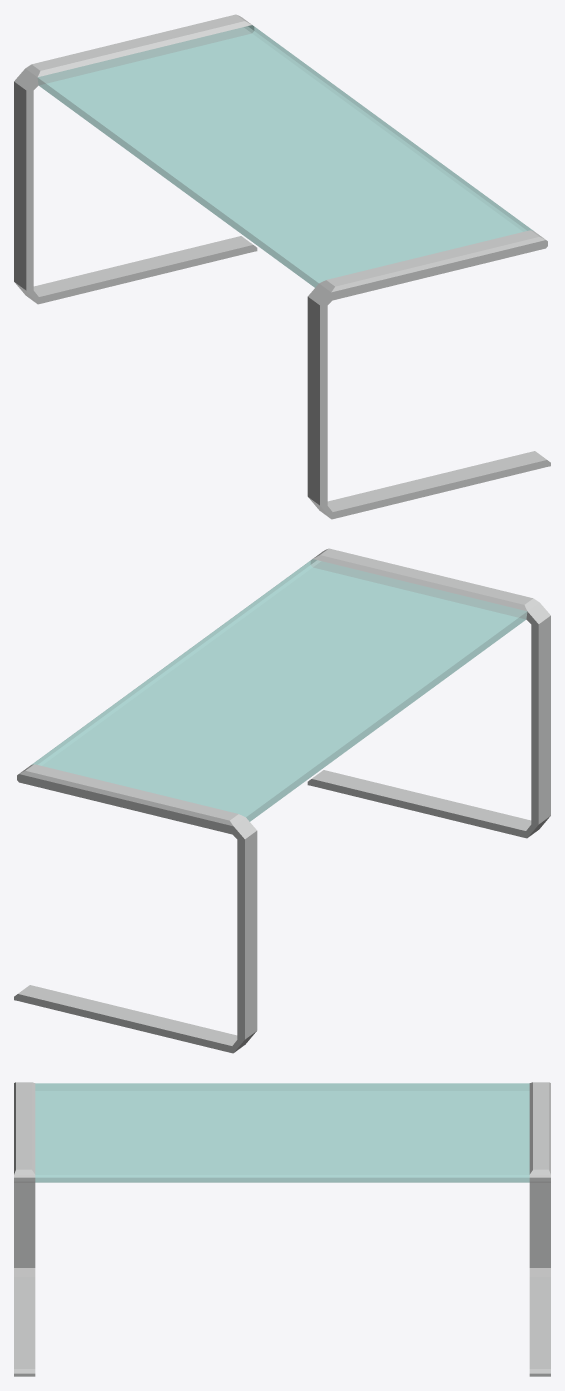
Rendered from Desk_02.fbx.
The picture shows the model from 3 angles, top to bottom: view 1: azimuth 30°, elevation 25°; view 2: azimuth 150°, elevation 25°; view 3: azimuth 270°, elevation 25°; orthographic projection. The views are drawn at different scales.
Parts seen in each view (by area): view 1: pCube5; view 2: pCube5; view 3: pCube5.
Boxes of the visible parts, x1,y1,x2,y2 form: pCube5: [14, 14, 550, 519]; pCube5: [14, 548, 550, 1053]; pCube5: [14, 1082, 550, 1376].
Bounding box in the file's own units: 155 × 149 × 357.
